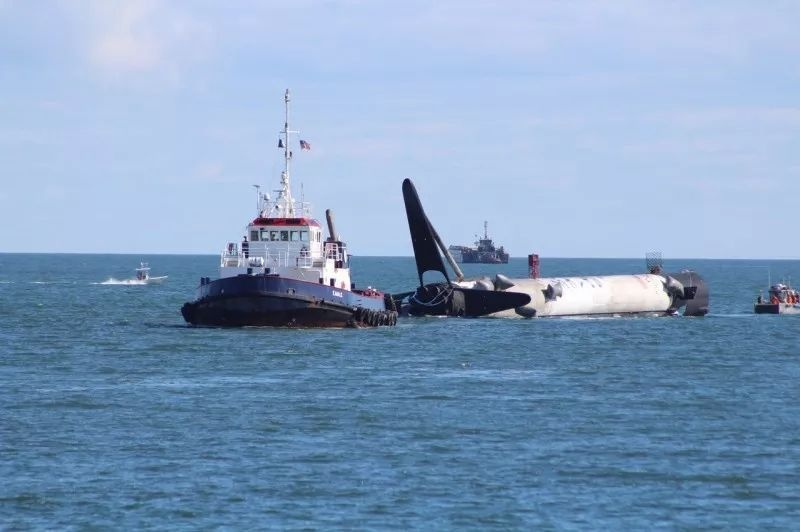otherboat: (182, 128, 418, 335), (447, 219, 519, 266)
